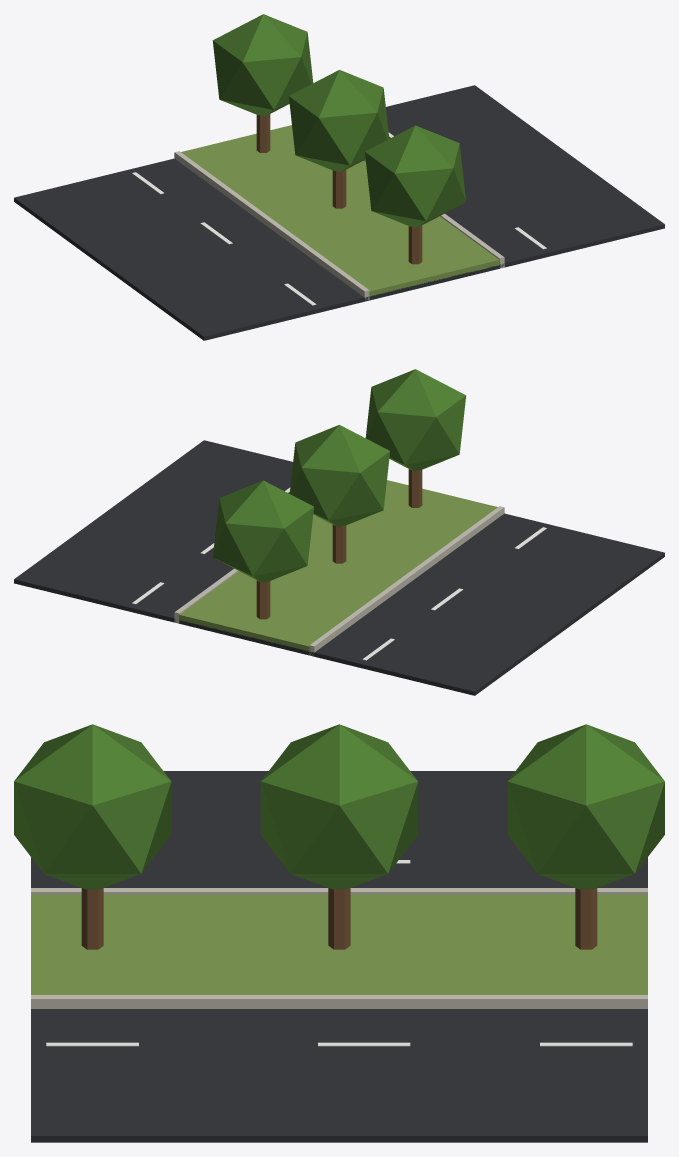
Rendered from road.boulevard-tree.glb.
The picture shows the model from 3 angles, top to bottom: view 1: azimuth 30°, elevation 25°; view 2: azimuth 150°, elevation 25°; view 3: azimuth 270°, elevation 25°; orthographic projection. The views are drawn at different scales.
Parts seen in each view (by area): view 1: road.boulevard-tree; view 2: road.boulevard-tree; view 3: road.boulevard-tree.
Part boxes in pixels (bbox=[...]): road.boulevard-tree: bbox=[14, 14, 664, 340]; road.boulevard-tree: bbox=[14, 369, 664, 695]; road.boulevard-tree: bbox=[14, 724, 664, 1142].
Bounding box in the file's own units: 14 × 4.22 × 10.55.
